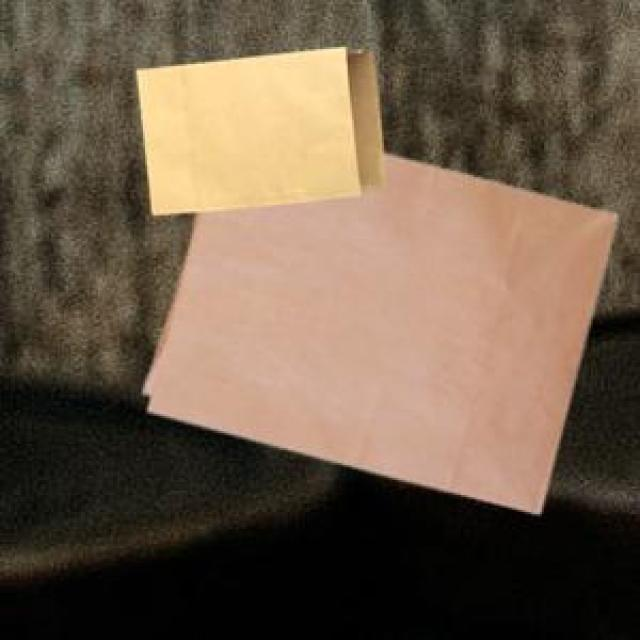paper: (139, 149, 611, 510), (133, 43, 379, 211)
